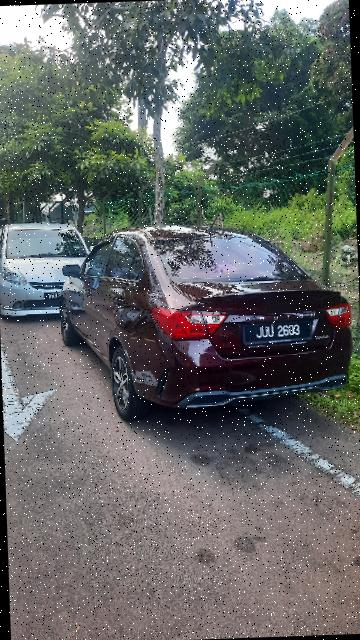License_Plate: (240, 318, 328, 352)
car: (54, 215, 360, 430)
